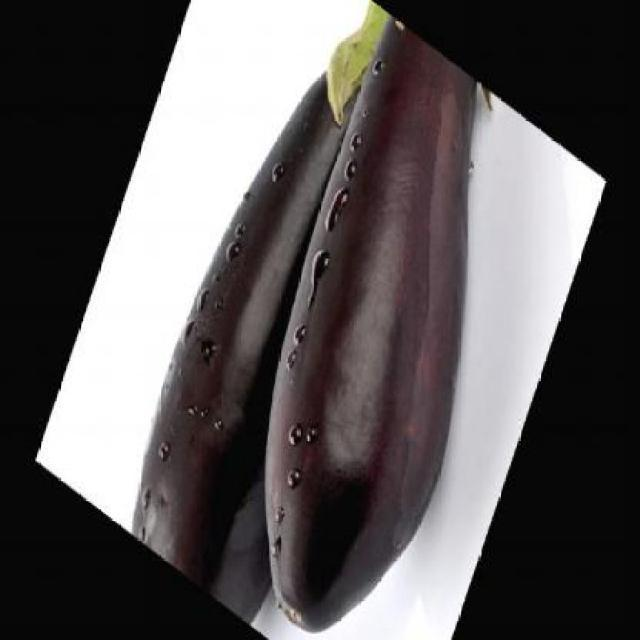eggplant: (114, 0, 450, 631), (255, 6, 493, 640)
